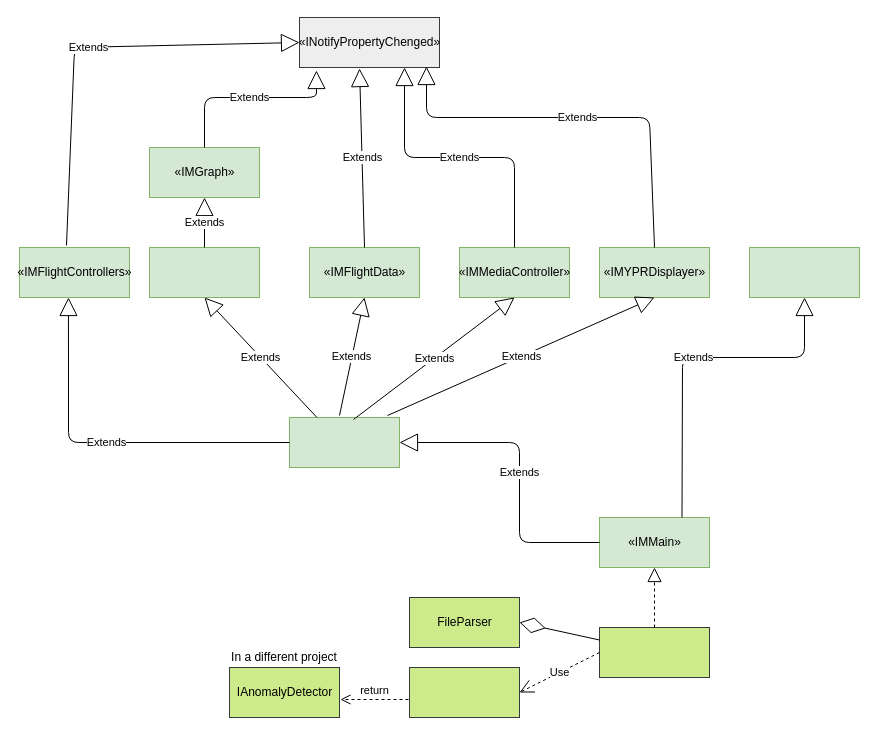
Image size: 877x735. Some labels were removed from this diagram. Here are the shapes that lost their labels. From the top down, the centre of each, then its label:
the point at 204,272: «IMGraphController»
the point at 804,272: «IMPGetFiles»
the point at 344,442: «IMPSimulator»
the point at 654,652: FlightModel
the point at 464,692: AnomalyDllLoader
